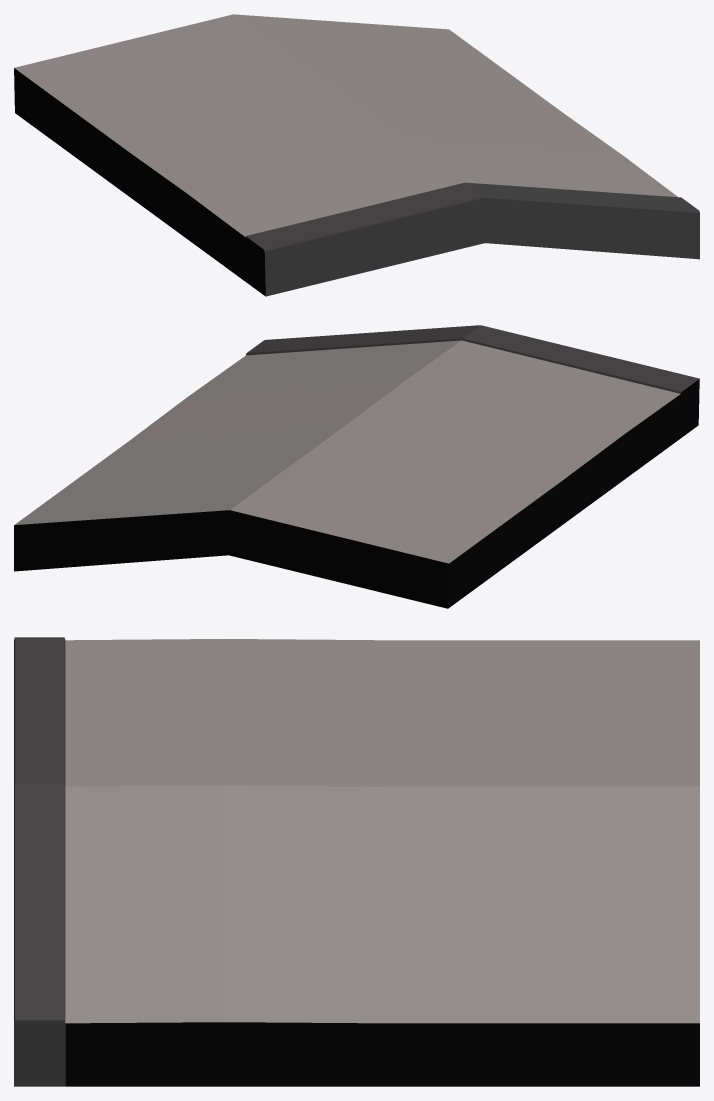
Rendered from Pavement_Sloped_01.fbx.
3 renders of one model, top to bottom at view 1: azimuth 30°, elevation 25°; view 2: azimuth 150°, elevation 25°; view 3: azimuth 270°, elevation 25°, orthographic. The views are drawn at different scales.
Visible parts, largest first — view 1: Pavement_Sloped; view 2: Pavement_Sloped; view 3: Pavement_Sloped.
Boxes of the visible parts, x1,y1,x2,y2 form: Pavement_Sloped: (14, 14, 699, 296); Pavement_Sloped: (14, 325, 699, 608); Pavement_Sloped: (14, 637, 699, 1086).
Bounding box in the file's own units: 201 × 51.05 × 200.
